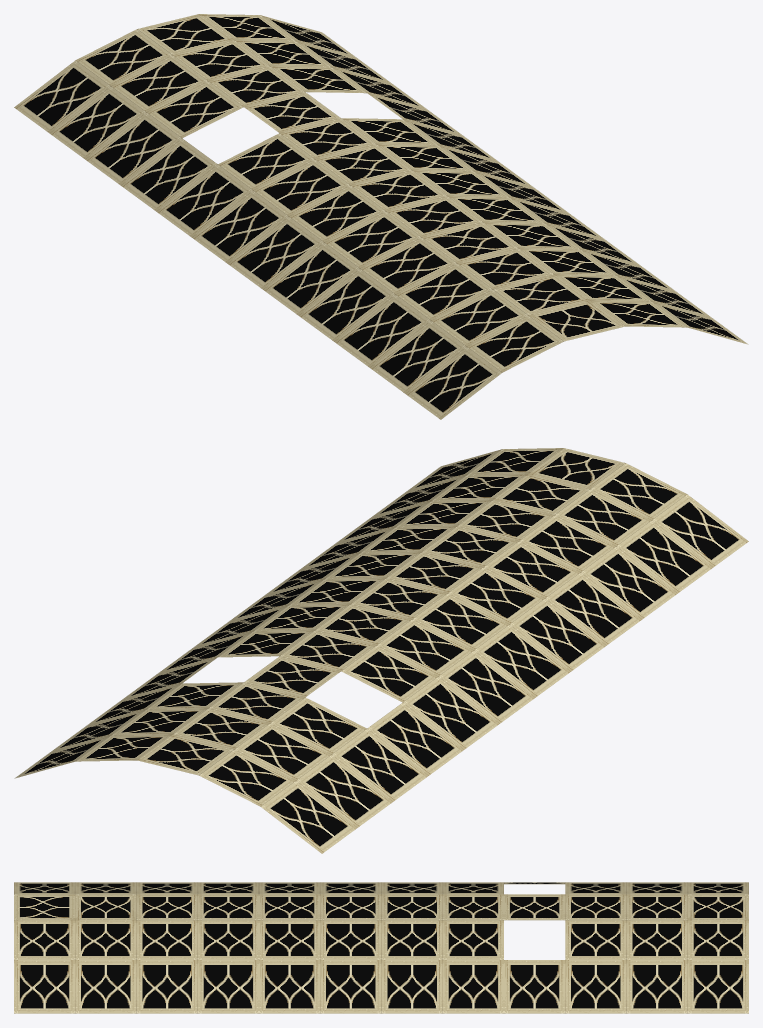
Rendered from roof1.obj.
3 views of the same model, one above another, from view 1: azimuth 30°, elevation 25°; view 2: azimuth 150°, elevation 25°; view 3: azimuth 270°, elevation 25° (orthographic). The views are drawn at different scales.
Visible parts, largest first — view 1: TeRoom_62_19_-10_41; view 2: TeRoom_62_19_-10_41; view 3: TeRoom_62_19_-10_41.
Part boxes in pixels (x1,y1,x2,y2): TeRoom_62_19_-10_41: [14, 14, 748, 419]; TeRoom_62_19_-10_41: [14, 448, 748, 853]; TeRoom_62_19_-10_41: [14, 882, 748, 1013].
Size of the model in its own units: 51.2 by 7.68 by 123.
1 material, 1 textured.
